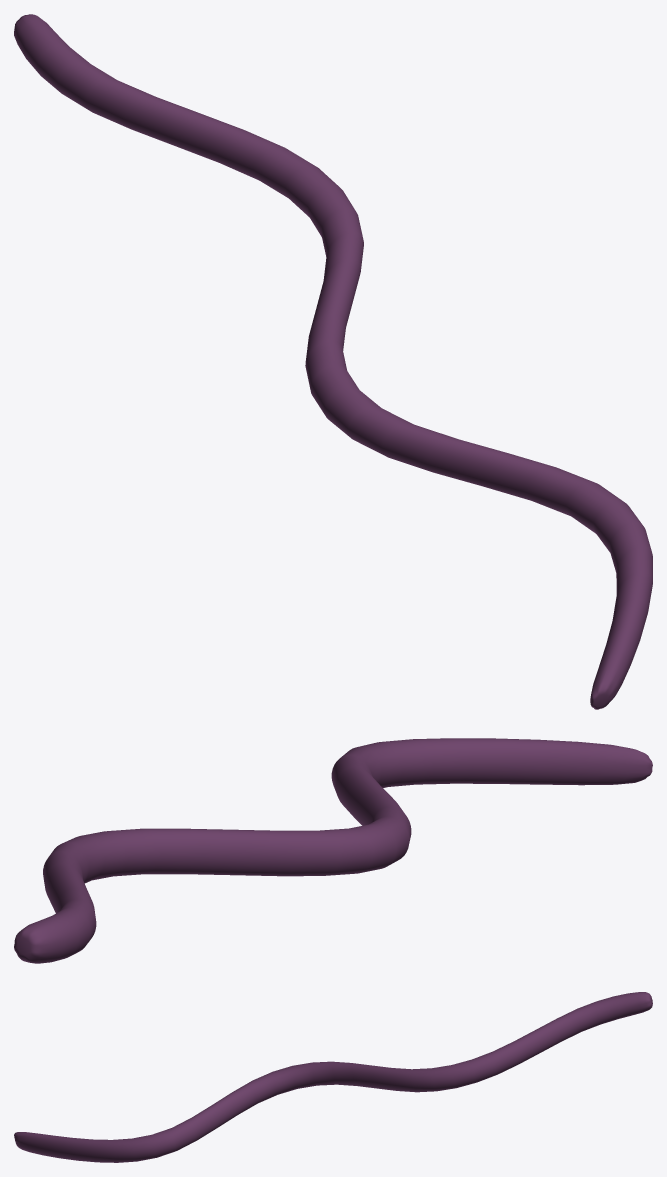
File: frame_4.obj
The picture shows the model from 3 angles, top to bottom: view 1: azimuth 30°, elevation 25°; view 2: azimuth 150°, elevation 25°; view 3: azimuth 270°, elevation 25°; orthographic projection. The views are drawn at different scales.
Parts seen in each view (by area): view 1: worm2; view 2: worm2; view 3: worm2.
Boxes of the visible parts, x1=… form: worm2: x1=14, y1=14, x2=652, y2=709; worm2: x1=14, y1=738, x2=652, y2=963; worm2: x1=14, y1=992, x2=652, y2=1162.
Bounding box in the file's own units: 307 × 458 × 1728.
